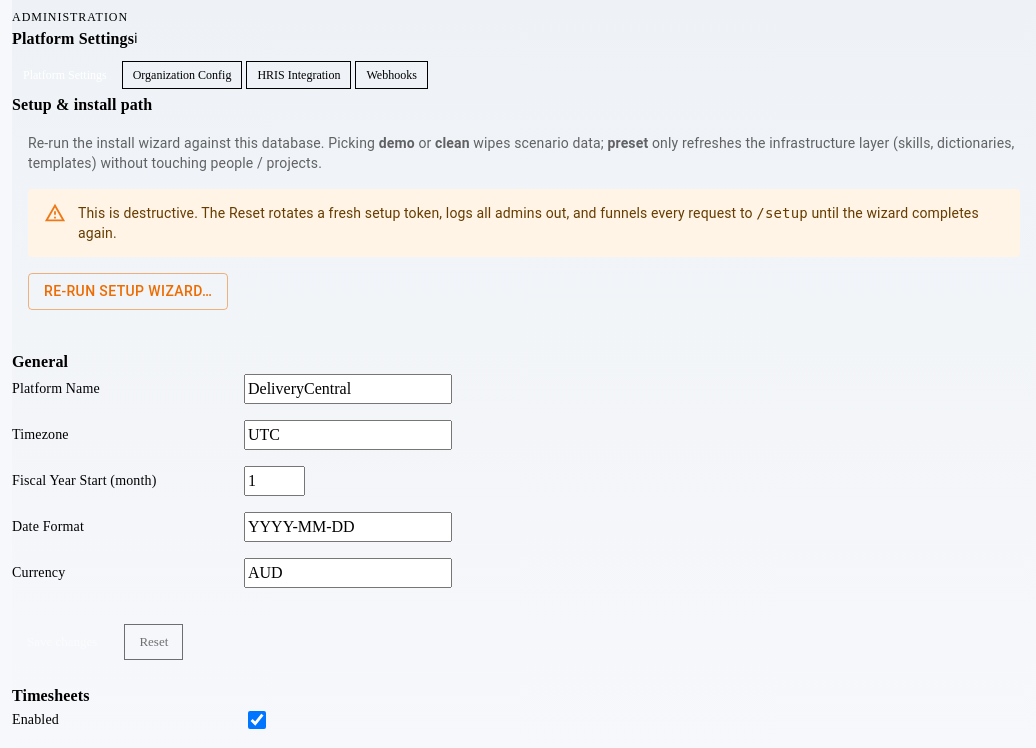
Test case: SettingsPage › reset reverts dirty fields to original values
Expected: the element with test id "settings-section-general" is shown, top-left (12, 374), bottom-right (452, 660)
Replace the text in the field with test id "setting-general-platformName" with "Changed": (348, 389) top-left (244, 374), bottom-right (452, 404)
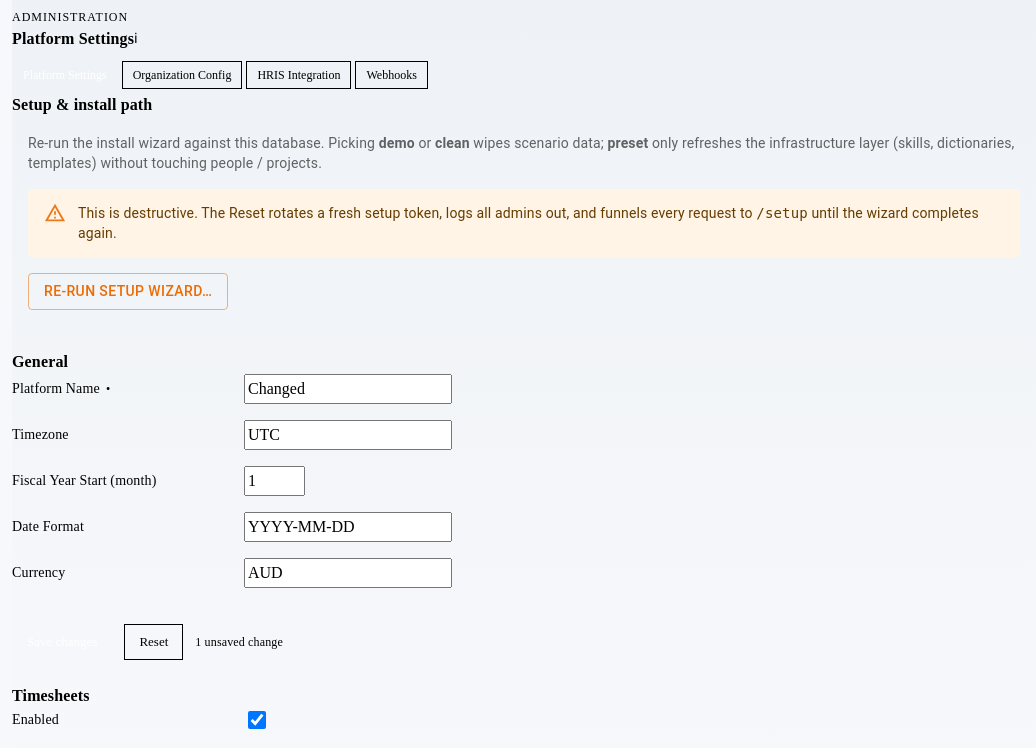
Click the button with test id "reset-section-general": click(154, 642) top-left (124, 624), bottom-right (183, 660)
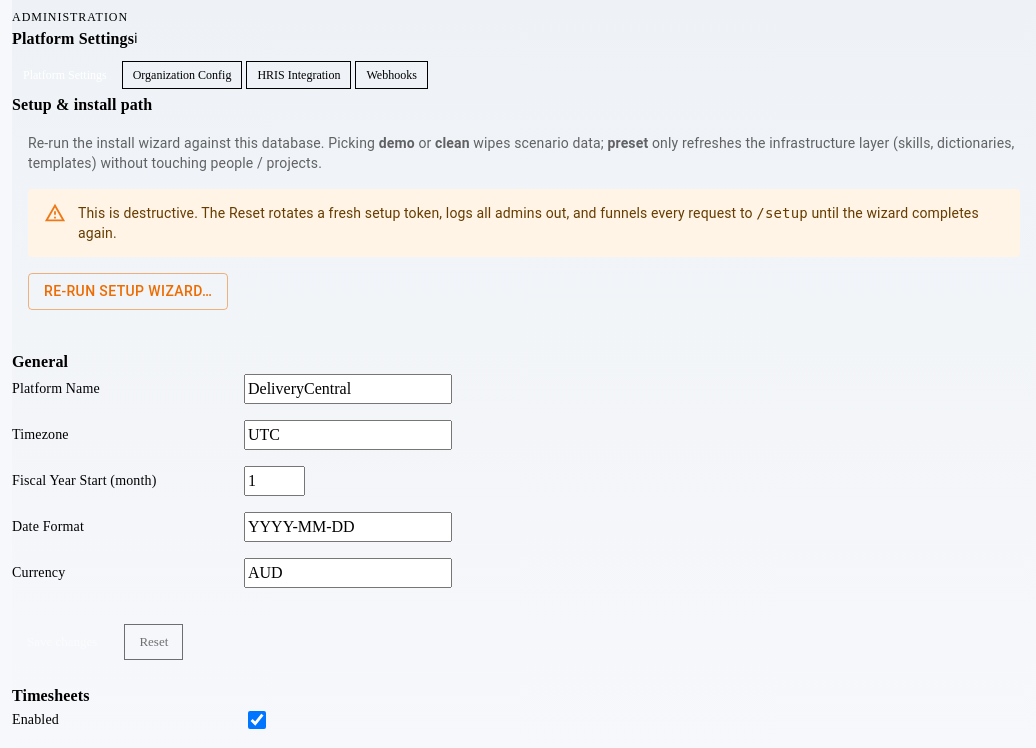
Result: the field with test id "setting-general-platformName" holds "DeliveryCentral" at top-left (244, 374), bottom-right (452, 404)
Result: the text with test id "dirty-indicator-general" is gone
